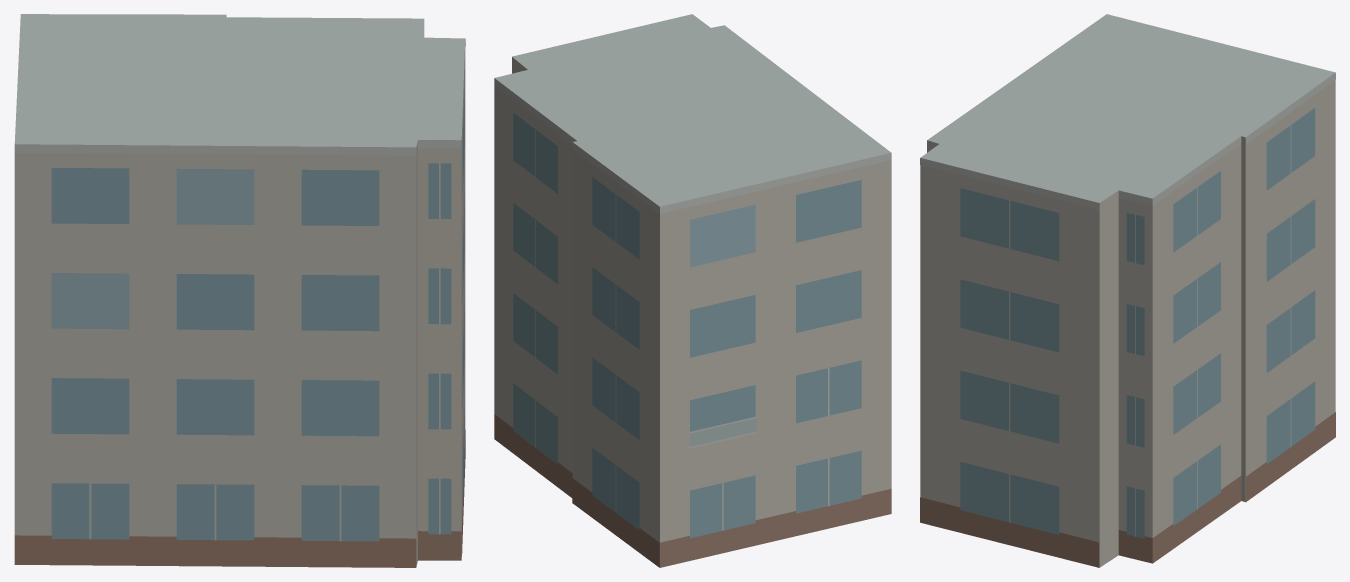
File: survey-upis-32673773.glb
3 renders of one model, left to right at view 1: azimuth 30°, elevation 25°; view 2: azimuth 150°, elevation 25°; view 3: azimuth 270°, elevation 25°, orthographic. The views are drawn at different scales.
Visible parts, largest first — view 1: survey-upis-32673773.tmp; view 2: survey-upis-32673773.tmp; view 3: survey-upis-32673773.tmp.
Part boxes in pixels (x1,y1,x2,y2): survey-upis-32673773.tmp: (14, 14, 465, 567); survey-upis-32673773.tmp: (494, 14, 891, 567); survey-upis-32673773.tmp: (920, 14, 1335, 567).
Bounding box in the file's own units: 13.67 × 12.3 × 12.71.
